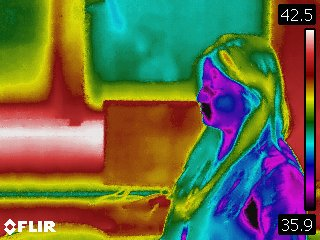human: (162, 33, 304, 240)
